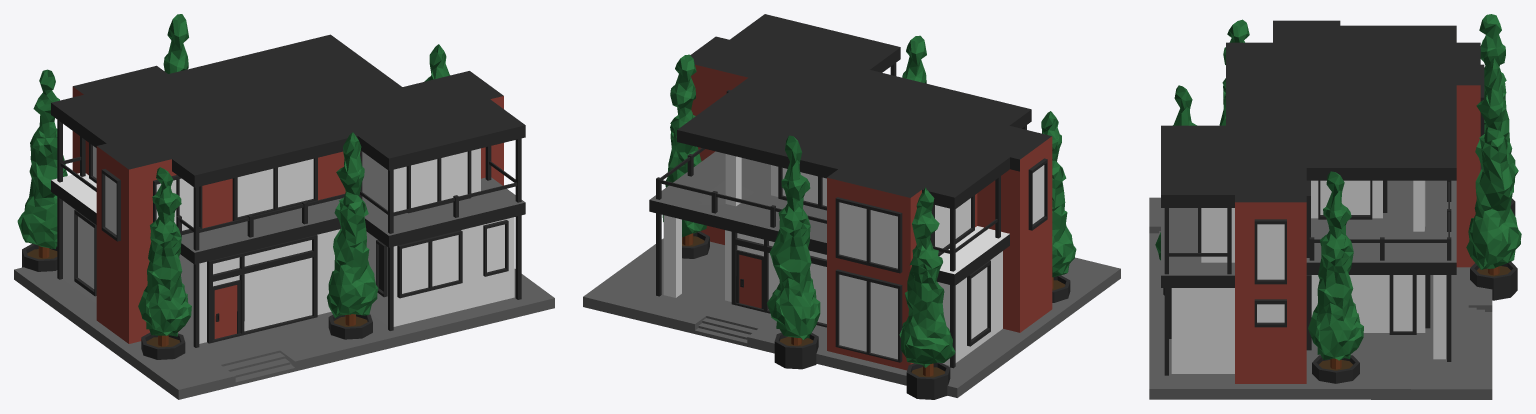
Rendered from House_Large_2.fbx.
3 views of the same model, side by side, from view 1: azimuth 30°, elevation 25°; view 2: azimuth 150°, elevation 25°; view 3: azimuth 270°, elevation 25° (orthographic). The views are drawn at different scales.
Visible parts, largest first — view 1: 1ModernHouse, TallTree.002, Window.009, BigWindow&Door.001, Fence, TreeTrunk.001; view 2: 1ModernHouse, TallTree.002, Window.009, BigWindow&Door.001, TreeTrunk.001, Fence; view 3: 1ModernHouse, TallTree.002, Window.009, Fence, TreeTrunk.001.
Boxes of the visible parts, left/top/right/bottom form: 1ModernHouse: left=14, top=34, right=554, bottom=399; TallTree.002: left=17, top=14, right=450, bottom=336; Window.009: left=74, top=143, right=508, bottom=298; BigWindow&Door.001: left=207, top=235, right=317, bottom=343; Fence: left=57, top=120, right=521, bottom=347; TreeTrunk.001: left=22, top=243, right=372, bottom=359; 1ModernHouse: left=583, top=14, right=1120, bottom=397; TallTree.002: left=662, top=35, right=1076, bottom=367; Window.009: left=726, top=90, right=1047, bottom=362; BigWindow&Door.001: left=731, top=232, right=826, bottom=327; TreeTrunk.001: left=682, top=231, right=1070, bottom=399; Fence: left=656, top=63, right=1026, bottom=368; 1ModernHouse: left=1149, top=20, right=1492, bottom=399; TallTree.002: left=1155, top=14, right=1521, bottom=360; Window.009: left=1169, top=64, right=1484, bottom=350; Fence: left=1164, top=180, right=1451, bottom=375; TreeTrunk.001: left=1163, top=198, right=1517, bottom=383.
Bounding box in the file's own units: 1903 × 1085 × 1562.
